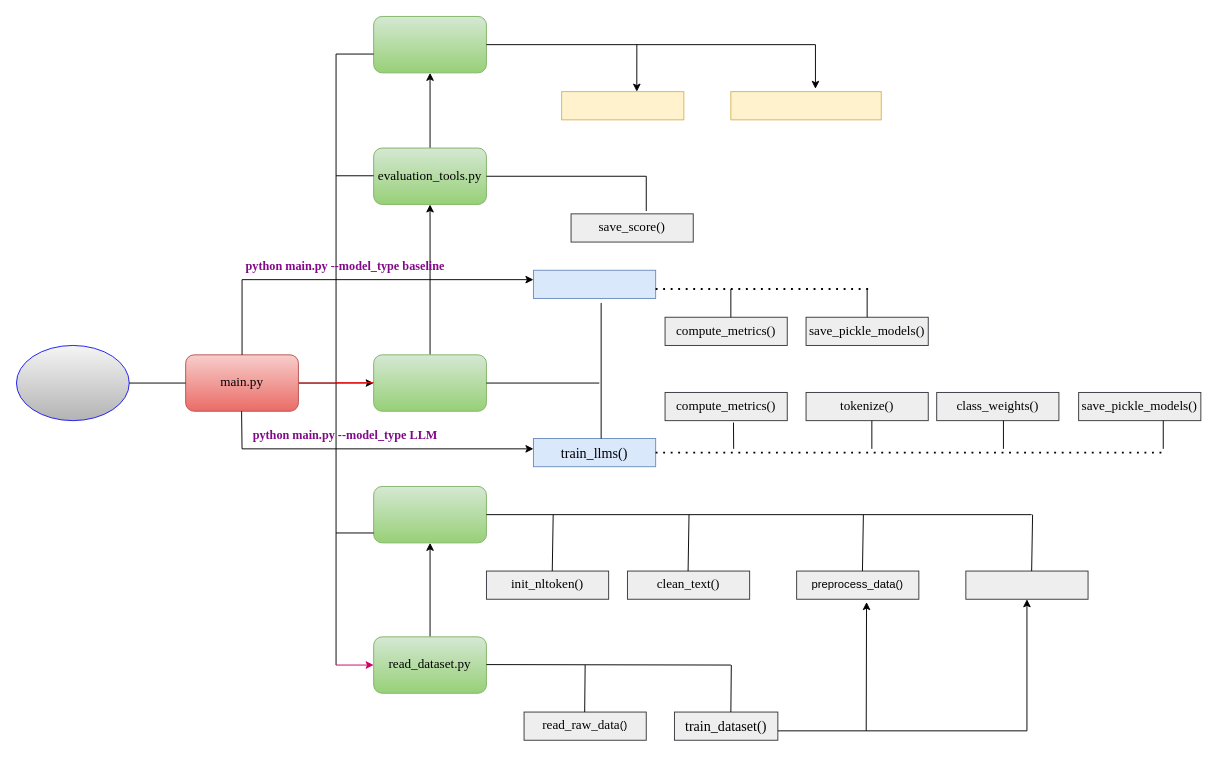
Some shapes in this 1217 by 757 pixel diagram are drawn without their labels. Here are the shapes that lost their labels. From the top down, the box of each, then its label:
(373, 16, 486, 73): inference.py
(561, 91, 684, 120): Best_LLM_Model
(730, 91, 881, 120): Best_Baseline_Model
(533, 269, 656, 298): train_baselines()
(16, 345, 129, 421): Pipeline
(373, 354, 486, 411): training.py
(373, 486, 486, 543): preprocessing.py
(965, 570, 1088, 599): get_class_weights ()
